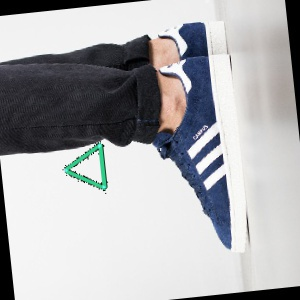triangle: (61, 142, 110, 193)
